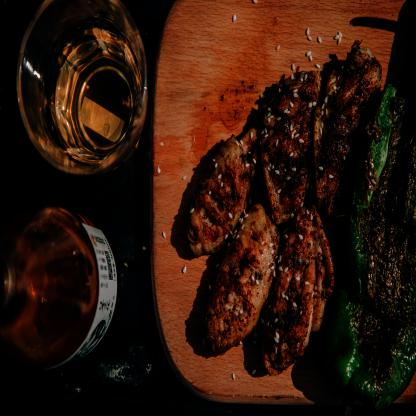Carne: (310, 40, 384, 217), (262, 206, 329, 374), (207, 201, 280, 354), (188, 123, 258, 257), (263, 70, 319, 218)
